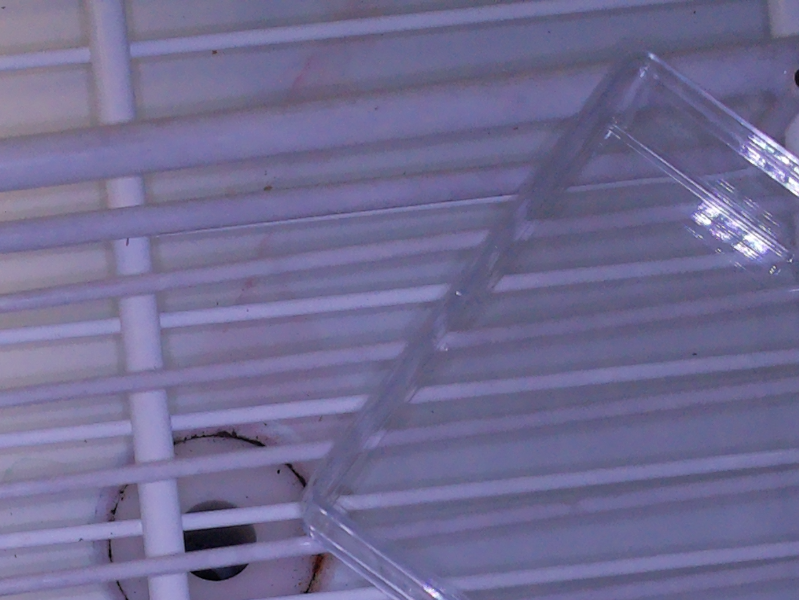plate: (298, 43, 799, 600)
